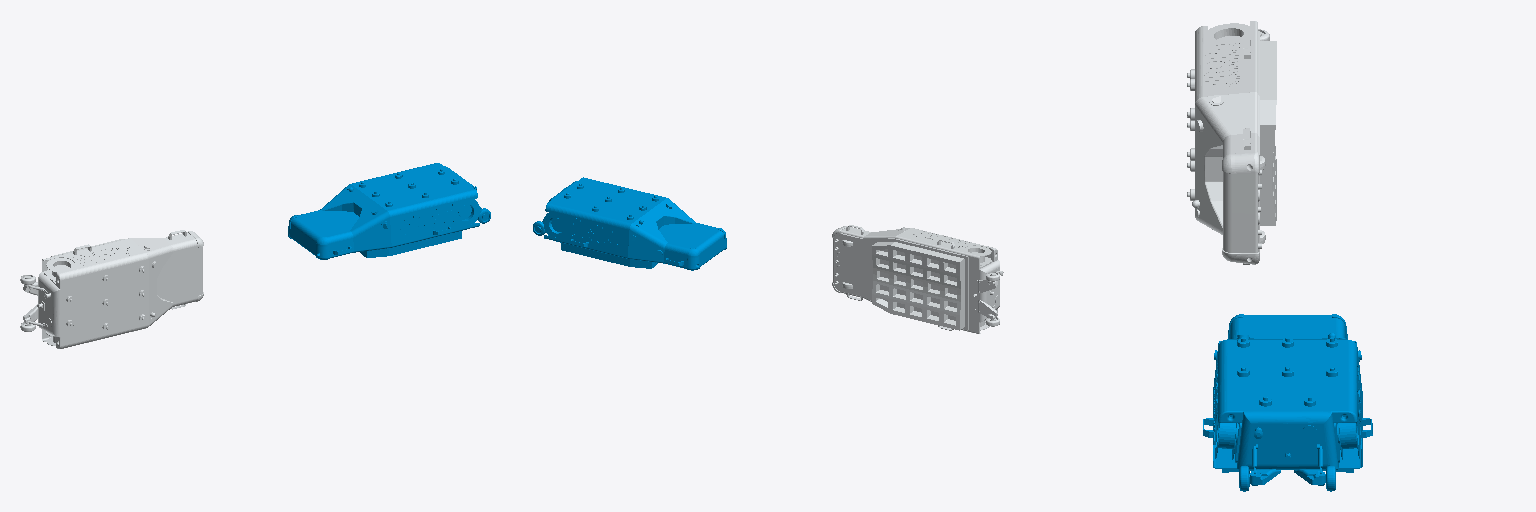
URDF robot description (rr_robot):
<?xml version="1.0" ?>
<!-- =================================================================================== -->
<!-- |    This document was autogenerated by xacro from [local-path]/bladerobot-meta/src/bladerobot/Planner/rr_robot_description/urdf/robot.urdf.xacro | -->
<!-- |    EDITING THIS FILE BY HAND IS NOT RECOMMENDED                                 | -->
<!-- =================================================================================== -->
<robot name="rr_robot">
    <!-- world base link -->
    <link name="world">
        <origin rpy="0 0 0" xyz="0 0 0" />
    </link>
    <link name="rr_chassis">
        <inertial>
            <origin rpy="0 0 0" xyz="0.45171 -1.9114E-06 -0.0060107" />
            <mass value="120.39" />
            <inertia ixx="0.44337" ixy="0.00087842" ixz="-0.12544" iyy="31.837" iyz="-2.5044E-05" izz="31.906" />
        </inertial>
        <visual>
            <origin rpy="0 0 0" xyz="0 0 0" />
            <geometry>
                <mesh filename="package://rr_robot_description/include/chassis/meshes/visual.STL" />
            </geometry>
            <material name="rr_blue">
                <color rgba="0 0.62352941176 0.89019607843 1" />
            </material>
        </visual>
        <collision>
            <origin rpy="0 0 0" xyz="0 0 0" />
            <geometry>
                <mesh filename="package://rr_robot_description/include/chassis/meshes/collision.STL" />
            </geometry>
        </collision>
    </link>
    <joint name="world_to_rr_chassis" type="fixed">
        <parent link="world" />
        <child link="rr_chassis" />
        <origin rpy="0 0 0" xyz="0 0 0" />
    </joint>
    <!-- ********************* Tool holders ********************* -->
    <link name="th0" />
    <joint name="th0_joint" type="fixed">
        <origin rpy="-1.0611E-15 7.6478E-16 1.5708" xyz="0.95394 0.0875 0.12783" />
        <parent link="rr_chassis" />
        <child link="th0" />
    </joint>
    <link name="th1" />
    <joint name="th1_joint" type="fixed">
        <origin rpy="-1.0611E-15 7.6478E-16 1.5708" xyz="0.95394 -0.0875 0.12783" />
        <parent link="rr_chassis" />
        <child link="th1" />
    </joint>
    <link name="th2" />
    <joint name="th2_joint" type="fixed">
        <origin rpy="-1.0611E-15 7.6478E-16 1.5708" xyz="0.67894 0.175 0.12783" />
        <parent link="rr_chassis" />
        <child link="th2" />
    </joint>
    <link name="th3" />
    <joint name="th3_joint" type="fixed">
        <origin rpy="-1.0611E-15 7.6478E-16 1.5708" xyz="0.67894 0 0.12783" />
        <parent link="rr_chassis" />
        <child link="th3" />
    </joint>
    <link name="th4" />
    <joint name="th4_joint" type="fixed">
        <origin rpy="-1.0611E-15 7.6478E-16 1.5708" xyz="0.67894 -0.175 0.12783" />
        <parent link="rr_chassis" />
        <child link="th4" />
    </joint>
    <link name="th5" />
    <joint name="th5_joint" type="fixed">
        <origin rpy="-1.0611E-15 7.6478E-16 1.5708" xyz="0.40394 0.175 0.12783" />
        <parent link="rr_chassis" />
        <child link="th5" />
    </joint>
    <link name="th6" />
    <joint name="th6_joint" type="fixed">
        <origin rpy="-1.0611E-15 7.6478E-16 1.5708" xyz="0.40394 0 0.12783" />
        <parent link="rr_chassis" />
        <child link="th6" />
    </joint>
    <link name="th7" />
    <joint name="th7_joint" type="fixed">
        <origin rpy="-1.0611E-15 7.6478E-16 1.5708" xyz="0.40394 -0.175 0.12783" />
        <parent link="rr_chassis" />
        <child link="th7" />
    </joint>
    <!--
    Base UR robot series xacro macro.

    NOTE: this is NOT a URDF. It cannot directly be loaded by consumers
    expecting a flattened '.urdf' file. See the top-level '.xacro' for that
    (but note: that .xacro must still be processed by the xacro command).

    For use in '.launch' files: use one of the 'load_urX.launch' convenience
    launch files.

    This file models the base kinematic chain of a UR robot, which then gets
    parameterised by various configuration files to convert it into a UR3(e),
    UR5(e), UR10(e) or UR16e.

    NOTE: the default kinematic parameters (ie: link lengths, frame locations,
    offets, etc) do not correspond to any particular robot. They are defaults
    only. There WILL be non-zero offsets between the Forward Kinematics results
    in TF (ie: robot_state_publisher) and the values reported by the Teach
    Pendant.

    For accurate (and robot-specific) transforms, the 'kinematics_parameters_file'
    parameter MUST point to a .yaml file containing the appropriate values for
    the targetted robot.

    If using the UniversalRobots/Universal_Robots_ROS_Driver, follow the steps
    described in the readme of that repository to extract the kinematic
    calibration from the controller and generate the required .yaml file.

    Main author of the migration to yaml configs: [author].

    Contributors to previous versions (in no particular order):

     - [author]
     - [author]
     - [author]
     - [author]
     - [author]
     - [author]
     - [author]
     - [author]
     - [author]
     - [author]
     - [author]
     - [author]
     - [author]
     - [author]
     - [author]
     - [author]
     - [author]
  -->
    <!--
    NOTE: the macro defined in this file is NOT part of the public API of this
          package. Users CANNOT rely on this file being available, or stored in
          this location. Nor can they rely on the existence of the macro.
  -->
    <transmission name="shoulder_pan_trans">
        <type>transmission_interface/SimpleTransmission</type>
        <joint name="shoulder_pan_joint">
            <hardwareInterface>hardware_interface/PositionJointInterface</hardwareInterface>
        </joint>
        <actuator name="shoulder_pan_motor">
            <mechanicalReduction>1</mechanicalReduction>
            <hardwareInterface>hardware_interface/EffortJointInterface</hardwareInterface>
        </actuator>
    </transmission>
    <transmission name="shoulder_lift_trans">
        <type>transmission_interface/SimpleTransmission</type>
        <joint name="shoulder_lift_joint">
            <hardwareInterface>hardware_interface/PositionJointInterface</hardwareInterface>
        </joint>
        <actuator name="shoulder_lift_motor">
            <mechanicalReduction>1</mechanicalReduction>
            <hardwareInterface>hardware_interface/EffortJointInterface</hardwareInterface>
        </actuator>
    </transmission>
    <transmission name="elbow_trans">
        <type>transmission_interface/SimpleTransmission</type>
        <joint name="elbow_joint">
            <hardwareInterface>hardware_interface/PositionJointInterface</hardwareInterface>
        </joint>
        <actuator name="elbow_motor">
            <mechanicalReduction>1</mechanicalReduction>
            <hardwareInterface>hardware_interface/EffortJointInterface</hardwareInterface>
        </actuator>
    </transmission>
    <transmission name="wrist_1_trans">
        <type>transmission_interface/SimpleTransmission</type>
        <joint name="wrist_1_joint">
            <hardwareInterface>hardware_interface/PositionJointInterface</hardwareInterface>
        </joint>
        <actuator name="wrist_1_motor">
            <mechanicalReduction>1</mechanicalReduction>
            <hardwareInterface>hardware_interface/EffortJointInterface</hardwareInterface>
        </actuator>
    </transmission>
    <transmission name="wrist_2_trans">
        <type>transmission_interface/SimpleTransmission</type>
        <joint name="wrist_2_joint">
            <hardwareInterface>hardware_interface/PositionJointInterface</hardwareInterface>
        </joint>
        <actuator name="wrist_2_motor">
            <mechanicalReduction>1</mechanicalReduction>
            <hardwareInterface>hardware_interface/EffortJointInterface</hardwareInterface>
        </actuator>
    </transmission>
    <transmission name="wrist_3_trans">
        <type>transmission_interface/SimpleTransmission</type>
        <joint name="wrist_3_joint">
            <hardwareInterface>hardware_interface/PositionJointInterface</hardwareInterface>
        </joint>
        <actuator name="wrist_3_motor">
            <mechanicalReduction>1</mechanicalReduction>
            <hardwareInterface>hardware_interface/EffortJointInterface</hardwareInterface>
        </actuator>
    </transmission>
    <!-- links: main serial chain -->
    <link name="base_link" />
    <link name="base_link_inertia">
        <visual>
            <origin rpy="0 0 3.141592653589793" xyz="0 0 0" />
            <geometry>
                <mesh filename="package://ur_description/meshes/ur10/visual/base.dae" />
            </geometry>
            <material name="LightGrey">
                <color rgba="0.7 0.7 0.7 1.0" />
            </material>
        </visual>
        <collision>
            <origin rpy="0 0 3.141592653589793" xyz="0 0 0" />
            <geometry>
                <mesh filename="package://ur_description/meshes/ur10/collision/base.stl" />
            </geometry>
        </collision>
        <inertial>
            <mass value="4.0" />
            <origin rpy="0 0 0" xyz="0 0 0" />
            <inertia ixx="0.0061063308908" ixy="0.0" ixz="0.0" iyy="0.0061063308908" iyz="0.0" izz="0.01125" />
        </inertial>
    </link>
    <link name="shoulder_link">
        <visual>
            <origin rpy="0 0 3.141592653589793" xyz="0 0 0" />
            <geometry>
                <mesh filename="package://ur_description/meshes/ur10/visual/shoulder.dae" />
            </geometry>
            <material name="LightGrey">
                <color rgba="0.7 0.7 0.7 1.0" />
            </material>
        </visual>
        <collision>
            <origin rpy="0 0 3.141592653589793" xyz="0 0 0" />
            <geometry>
                <mesh filename="package://ur_description/meshes/ur10/collision/shoulder.stl" />
            </geometry>
        </collision>
        <inertial>
            <mass value="7.778" />
            <origin rpy="0 0 0" xyz="0 0 0" />
            <inertia ixx="0.03147431257693659" ixy="0.0" ixz="0.0" iyy="0.03147431257693659" iyz="0.0" izz="0.021875624999999996" />
        </inertial>
    </link>
    <link name="upper_arm_link">
        <visual>
            <origin rpy="1.5707963267948966 0 -1.5707963267948966" xyz="0 0 0.220941" />
            <geometry>
                <mesh filename="package://ur_description/meshes/ur10/visual/upperarm.dae" />
            </geometry>
            <material name="LightGrey">
                <color rgba="0.7 0.7 0.7 1.0" />
            </material>
        </visual>
        <collision>
            <origin rpy="1.5707963267948966 0 -1.5707963267948966" xyz="0 0 0.220941" />
            <geometry>
                <mesh filename="package://ur_description/meshes/ur10/collision/upperarm.stl" />
            </geometry>
        </collision>
        <inertial>
            <mass value="12.93" />
            <origin rpy="0 1.5707963267948966 0" xyz="-0.306 0.0 0.175" />
            <inertia ixx="0.42175380379841093" ixy="0.0" ixz="0.0" iyy="0.42175380379841093" iyz="0.0" izz="0.03636562499999999" />
        </inertial>
    </link>
    <link name="forearm_link">
        <visual>
            <origin rpy="1.5707963267948966 0 -1.5707963267948966" xyz="0 0 0.049042" />
            <geometry>
                <mesh filename="package://ur_description/meshes/ur10/visual/forearm.dae" />
            </geometry>
            <material name="LightGrey">
                <color rgba="0.7 0.7 0.7 1.0" />
            </material>
        </visual>
        <collision>
            <origin rpy="1.5707963267948966 0 -1.5707963267948966" xyz="0 0 0.049042" />
            <geometry>
                <mesh filename="package://ur_description/meshes/ur10/collision/forearm.stl" />
            </geometry>
        </collision>
        <inertial>
            <mass value="3.87" />
            <origin rpy="0 1.5707963267948966 0" xyz="-0.28615 0.0 0.049042" />
            <inertia ixx="0.11106969409710458" ixy="0.0" ixz="0.0" iyy="0.11106969409710458" iyz="0.0" izz="0.010884375" />
        </inertial>
    </link>
    <link name="wrist_1_link">
        <visual>
            <!-- TODO: Move this to a parameter -->
            <origin rpy="1.5707963267948966 0 0" xyz="0 0 -0.1149" />
            <geometry>
                <mesh filename="package://ur_description/meshes/ur10/visual/wrist1.dae" />
            </geometry>
            <material name="LightGrey">
                <color rgba="0.7 0.7 0.7 1.0" />
            </material>
        </visual>
        <collision>
            <origin rpy="1.5707963267948966 0 0" xyz="0 0 -0.1149" />
            <geometry>
                <mesh filename="package://ur_description/meshes/ur10/collision/wrist1.stl" />
            </geometry>
        </collision>
        <inertial>
            <mass value="1.96" />
            <origin rpy="0 0 0" xyz="0 0 0" />
            <inertia ixx="0.005108247956699999" ixy="0.0" ixz="0.0" iyy="0.005108247956699999" iyz="0.0" izz="0.005512499999999999" />
        </inertial>
    </link>
    <link name="wrist_2_link">
        <visual>
            <origin rpy="0 0 0" xyz="0 0 -0.1158" />
            <geometry>
                <mesh filename="package://ur_description/meshes/ur10/visual/wrist2.dae" />
            </geometry>
            <material name="LightGrey">
                <color rgba="0.7 0.7 0.7 1.0" />
            </material>
        </visual>
        <collision>
            <origin rpy="0 0 0" xyz="0 0 -0.1158" />
            <geometry>
                <mesh filename="package://ur_description/meshes/ur10/collision/wrist2.stl" />
            </geometry>
        </collision>
        <inertial>
            <mass value="1.96" />
            <origin rpy="0 0 0" xyz="0 0 0" />
            <inertia ixx="0.0040792483683" ixy="0.0" ixz="0.0" iyy="0.0040792483683" iyz="0.0" izz="0.005512499999999999" />
        </inertial>
    </link>
    <link name="wrist_3_link">
        <visual>
            <origin rpy="1.5707963267948966 0 0" xyz="0 0 -0.0922" />
            <geometry>
                <mesh filename="package://ur_description/meshes/ur10/visual/wrist3.dae" />
            </geometry>
            <material name="LightGrey">
                <color rgba="0.7 0.7 0.7 1.0" />
            </material>
        </visual>
        <collision>
            <origin rpy="1.5707963267948966 0 0" xyz="0 0 -0.0922" />
            <geometry>
                <mesh filename="package://ur_description/meshes/ur10/collision/wrist3.stl" />
            </geometry>
        </collision>
        <inertial>
            <mass value="0.202" />
            <origin rpy="0 0 0" xyz="0.0 0.0 -0.01525" />
            <inertia ixx="0.00011792166116465" ixy="0.0" ixz="0.0" iyy="0.00011792166116465" iyz="0.0" izz="0.00020452500000000002" />
        </inertial>
    </link>
    <!-- joints: main serial chain -->
    <joint name="base_link-base_link_inertia" type="fixed">
        <parent link="base_link" />
        <child link="base_link_inertia" />
        <!-- 'base_link' is REP-103 aligned (so X+ forward), while the internal
           frames of the robot/controller have X+ pointing backwards.
           Use the joint between 'base_link' and 'base_link_inertia' (a dummy
           link/frame) to introduce the necessary rotation over Z (of pi rad).
      -->
        <origin rpy="0 0 3.141592653589793" xyz="0 0 0" />
    </joint>
    <joint name="shoulder_pan_joint" type="revolute">
        <parent link="base_link_inertia" />
        <child link="shoulder_link" />
        <origin rpy="0 0 0" xyz="0 0 0.1273" />
        <axis xyz="0 0 1" />
        <limit effort="330.0" lower="-6.283185307179586" upper="6.283185307179586" velocity="2.0943951023931953" />
        <dynamics damping="0" friction="0" />
    </joint>
    <joint name="shoulder_lift_joint" type="revolute">
        <parent link="shoulder_link" />
        <child link="upper_arm_link" />
        <origin rpy="1.570796327 0 0" xyz="0 0 0" />
        <axis xyz="0 0 1" />
        <limit effort="330.0" lower="-6.283185307179586" upper="6.283185307179586" velocity="2.0943951023931953" />
        <dynamics damping="0" friction="0" />
    </joint>
    <joint name="elbow_joint" type="revolute">
        <parent link="upper_arm_link" />
        <child link="forearm_link" />
        <origin rpy="0 0 0" xyz="-0.612 0 0" />
        <axis xyz="0 0 1" />
        <limit effort="150.0" lower="-3.141592653589793" upper="3.141592653589793" velocity="3.141592653589793" />
        <dynamics damping="0" friction="0" />
    </joint>
    <joint name="wrist_1_joint" type="revolute">
        <parent link="forearm_link" />
        <child link="wrist_1_link" />
        <origin rpy="0 0 0" xyz="-0.5723 0 0.163941" />
        <axis xyz="0 0 1" />
        <limit effort="56.0" lower="-6.283185307179586" upper="6.283185307179586" velocity="3.141592653589793" />
        <dynamics damping="0" friction="0" />
    </joint>
    <joint name="wrist_2_joint" type="revolute">
        <parent link="wrist_1_link" />
        <child link="wrist_2_link" />
        <origin rpy="1.570796327 0 0" xyz="0 -0.1157 -2.373046667922381e-11" />
        <axis xyz="0 0 1" />
        <limit effort="56.0" lower="-6.283185307179586" upper="6.283185307179586" velocity="3.141592653589793" />
        <dynamics damping="0" friction="0" />
    </joint>
    <joint name="wrist_3_joint" type="revolute">
        <parent link="wrist_2_link" />
        <child link="wrist_3_link" />
        <origin rpy="1.570796326589793 3.141592653589793 3.141592653589793" xyz="0 0.0922 -1.891053610911353e-11" />
        <axis xyz="0 0 1" />
        <limit effort="56.0" lower="-6.283185307179586" upper="6.283185307179586" velocity="3.141592653589793" />
        <dynamics damping="0" friction="0" />
    </joint>
    <!-- ROS-Industrial 'base' frame: base_link to UR 'Base' Coordinates transform -->
    <link name="base" />
    <joint name="base_link-base_fixed_joint" type="fixed">
        <!-- Note the rotation over Z of pi radians: as base_link is REP-103
           aligned (ie: has X+ forward, Y+ left and Z+ up), this is needed
           to correctly align 'base' with the 'Base' coordinate system of
           the UR controller.
      -->
        <origin rpy="0 0 3.141592653589793" xyz="0 0 0" />
        <parent link="base_link" />
        <child link="base" />
    </joint>
    <!-- ROS-Industrial 'flange' frame: attachment point for EEF models -->
    <link name="flange" />
    <joint name="wrist_3-flange" type="fixed">
        <parent link="wrist_3_link" />
        <child link="flange" />
        <origin rpy="0 -1.5707963267948966 -1.5707963267948966" xyz="0 0 0" />
    </joint>
    <!-- ROS-Industrial 'tool0' frame: all-zeros tool frame -->
    <link name="tool0" />
    <joint name="flange-tool0" type="fixed">
        <!-- default toolframe: X+ left, Y+ up, Z+ front -->
        <origin rpy="1.5707963267948966 0 1.5707963267948966" xyz="0 0 0" />
        <parent link="flange" />
        <child link="tool0" />
    </joint>
    <!-- <xacro:ur10_robot prefix="" joint_limited="true"
		 shoulder_pan_lower_limit="${(-3/2)*pi}" shoulder_pan_upper_limit="${(1/2)*pi}"
		 shoulder_lift_lower_limit="${-pi*(9/8)}" shoulder_lift_upper_limit="${pi/8}"
		 elbow_joint_lower_limit="${0.1}" elbow_joint_upper_limit="${pi*(7/8)}"
		 wrist_1_lower_limit="${-pi}" wrist_1_upper_limit="${pi}"
		 wrist_2_lower_limit="${-pi}" wrist_2_upper_limit="${pi}"
		 wrist_3_lower_limit="${-pi}" wrist_3_upper_limit="${pi}"
         transmission_hw_interface="$(arg transmission_hw_interface)"
         kinematics_file="${xacro.load_yaml('$(arg kinematics_config)')}"/> -->
    <!-- Connect tool0_controller to base using floating joint -->
    <!-- <link name="tool0_controller"/>
  <joint name="base_tool0_controller_joint" type="floating">
    <origin xyz="0 0 0" rpy="0 0 0"/>
    <parent link="base"/>
    <child link="tool0_controller"/>
  </joint> -->
    <link name="tcp0" />
    <joint name="tool0_to_tcp0" type="fixed">
        <origin rpy="0 0 0" xyz="0 0 0" />
        <parent link="tool0" />
        <child link="tcp0" />
    </joint>
    <link name="actual_tcp" />
    <joint name="tool0_to_actual_tcp" type="fixed">
        <origin rpy="0 0 0" xyz="0 0 0" />
        <parent link="tool0" />
        <child link="actual_tcp" />
    </joint>
    <!-- connect arm to chassis -->
    <joint name="chassis_to_arm" type="fixed">
        <parent link="rr_chassis" />
        <child link="base_link" />
        <origin rpy="0 0 3.141592653589793" xyz="0 0 0" />
    </joint>
    <!--<link name="tcp" />-->
    <!--<joint name="tcp0_to_tcp" type="fixed" >-->
    <!--<origin xyz="0 0 0" rpy="0 0 0"/>-->
    <!--<parent link="tcp0"/>-->
    <!--<child link="tcp"/>-->
    <!--</joint>-->
    <link name="rr_tool_adapter">
        <inertial>
            <origin rpy="0 0 0" xyz="0.02883 0.016356 0.020893" />
            <mass value="1.4111" />
            <inertia ixx="0.00092275" ixy="-0.00085642" ixz="0.0001456" iyy="0.0020383" iyz="5.6501E-05" izz="0.0021049" />
        </inertial>
        <visual>
            <origin rpy="0 0 0" xyz="0 0 0" />
            <geometry>
                <mesh filename="package://rr_robot_description/include/tool_adapter/meshes/visual.STL" />
            </geometry>
            <material name="">
                <color rgba="0.89804 0.91765 0.92941 1" />
            </material>
        </visual>
        <collision>
            <origin rpy="0 0 0" xyz="-0.0225 -0.1 0" />
            <geometry>
                <mesh filename="package://rr_robot_description/include/tool_adapter/meshes/collision.STL" />
            </geometry>
        </collision>
    </link>
    <joint name="tcp0_to_rr_tool_adapter" type="fixed">
        <parent link="tcp0" />
        <child link="rr_tool_adapter" />
        <origin rpy="0 0 3.141592653589793" xyz="0 0 0" />
    </joint>
    <link name="acp" />
    <joint name="rr_tool_adapter_to_acp" type="fixed">
        <origin rpy="2.0464E-16 1.3198E-17 -1.0472" xyz="0 0 0.0665" />
        <parent link="rr_tool_adapter" />
        <child link="acp" />
        <axis xyz="0 0 0" />
    </joint>
    <link name="tcp" />
    <joint name="tcp_attach" type="fixed">
        <origin rpy="0 0 0" xyz="0 0 0" />
        <parent link="acp" />
        <child link="tcp" />
    </joint>
    <gazebo>
        <plugin name="gazebo_ros_control">
            <robotNamespace>/</robotNamespace>
        </plugin>
    </gazebo>
</robot>

--- Facts derived from the render (not from the file) ---
Views: 3 orthographic renders of the robot side by side, from view 1: azimuth 30°, elevation 25°; view 2: azimuth 150°, elevation 25°; view 3: azimuth 270°, elevation 25°.
Robot: rr_robot — 26 links, 25 joints (6 revolute, 19 fixed); root link world; default pose: all joints at 0.
Links seen in each view (by area): view 1: rr_tool_adapter, rr_chassis; view 2: rr_tool_adapter, rr_chassis; view 3: rr_chassis, rr_tool_adapter.
Link boxes in pixels (box(x1,y1,x2,y2)): rr_tool_adapter: box(20, 230, 203, 348); rr_chassis: box(288, 163, 490, 259); rr_tool_adapter: box(832, 225, 1003, 333); rr_chassis: box(533, 177, 726, 270); rr_chassis: box(1203, 314, 1372, 491); rr_tool_adapter: box(1187, 21, 1276, 264).
Size in the robot's own frame: 3.54 by 0.7317 by 0.6706 metres.
2 mesh visuals loaded from 9 distinct referenced files (1 binary STL); not drawn: 7 (reference not matched to a file when rendering).